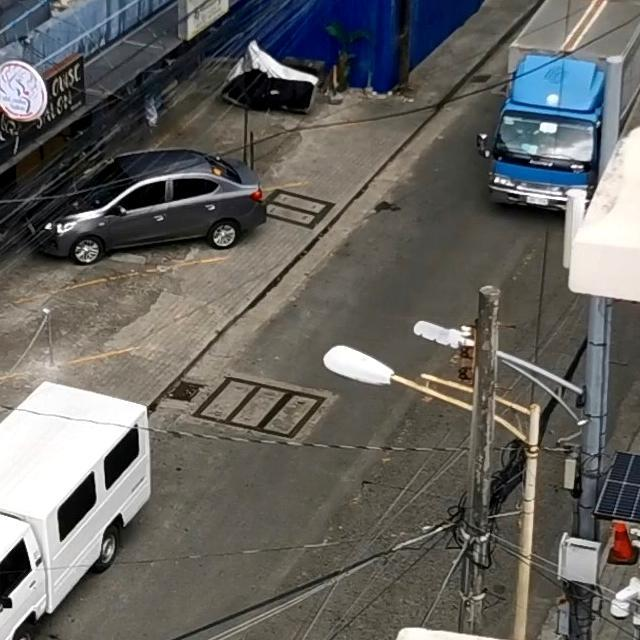Car: (0, 385, 149, 640), (27, 149, 258, 263)
